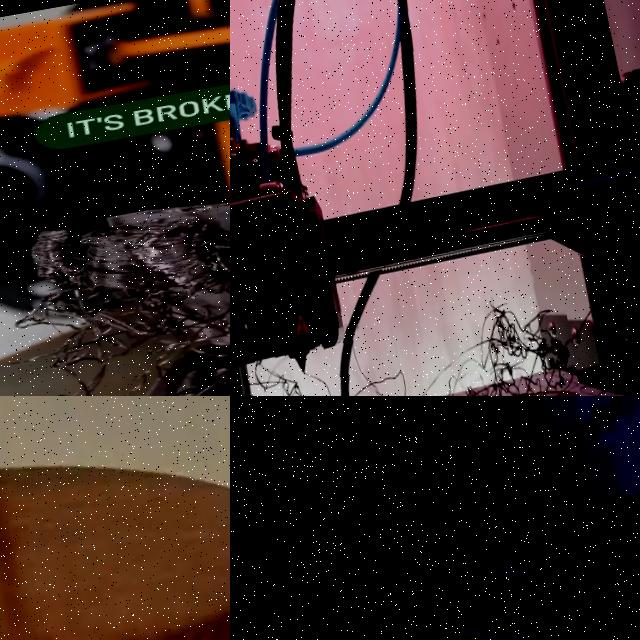spaghetti: (0, 185, 230, 396), (230, 287, 597, 396)
